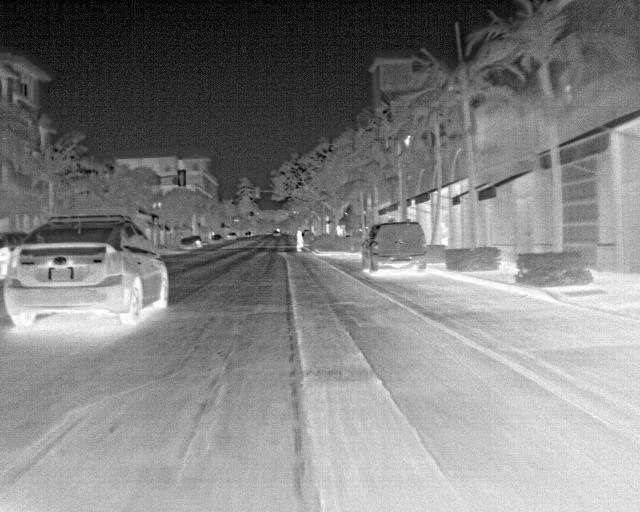bicycle: (3, 217, 169, 327), (361, 219, 431, 275), (178, 233, 197, 254), (189, 236, 204, 249), (209, 233, 223, 245), (225, 229, 238, 241)
empty: (291, 228, 304, 252)
